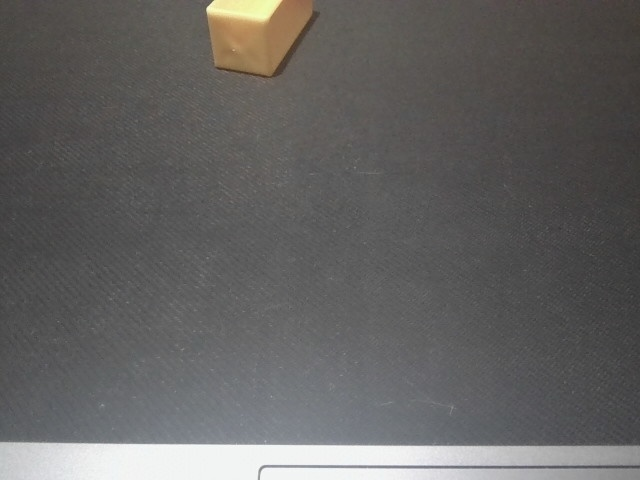YellowSample: (201, 1, 316, 81)
